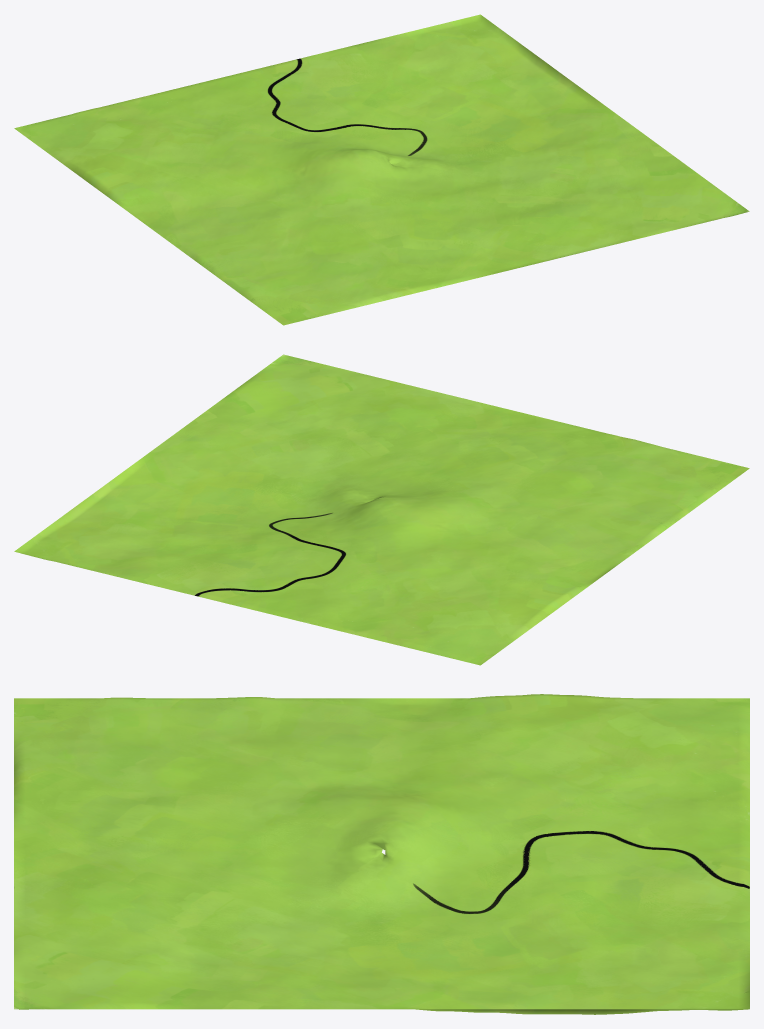
File: SilkFountain_Ground_Dream.glb
3 renders of one model, top to bottom at view 1: azimuth 30°, elevation 25°; view 2: azimuth 150°, elevation 25°; view 3: azimuth 270°, elevation 25°, orthographic. The views are drawn at different scales.
Parts seen in each view (by area): view 1: Plane; view 2: Plane; view 3: Plane.
Boxes of the visible parts, x1=… form: Plane: x1=14, y1=14, x2=749, y2=325; Plane: x1=14, y1=354, x2=749, y2=665; Plane: x1=14, y1=694, x2=749, y2=1014.
Size of the model in its own units: 500 by 24.45 by 500.
1 material, 1 textured.
